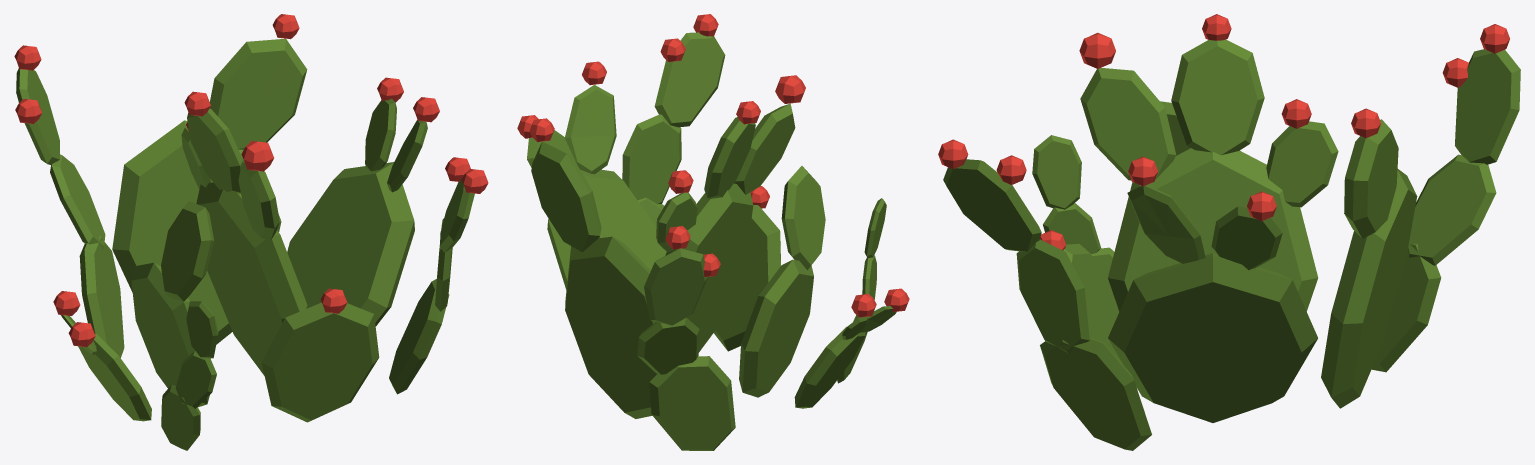
File: Cactus_4.fbx
The picture shows the model from 3 angles, left to right: view 1: azimuth 30°, elevation 25°; view 2: azimuth 150°, elevation 25°; view 3: azimuth 270°, elevation 25°; orthographic projection. The views are drawn at different scales.
Parts seen in each view (by area): view 1: Cactus_4; view 2: Cactus_4; view 3: Cactus_4.
Part boxes in pixels (left/top/right/bottom): Cactus_4: left=14, top=14, right=488, bottom=450; Cactus_4: left=517, top=14, right=909, bottom=450; Cactus_4: left=938, top=14, right=1520, bottom=450.
Bounding box in the file's own units: 81.18 × 96.81 × 66.89.
